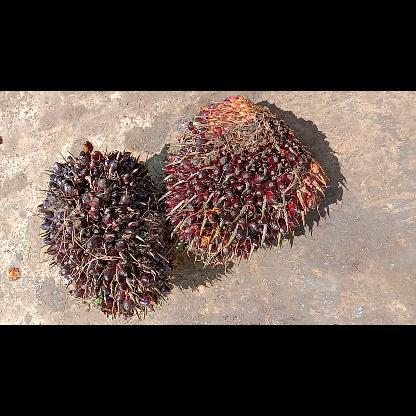TBS mentah: (162, 94, 328, 268), (37, 142, 170, 314)
